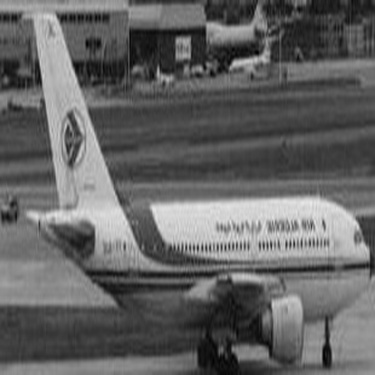airplane: (3, 2, 369, 372), (208, 34, 278, 80)
